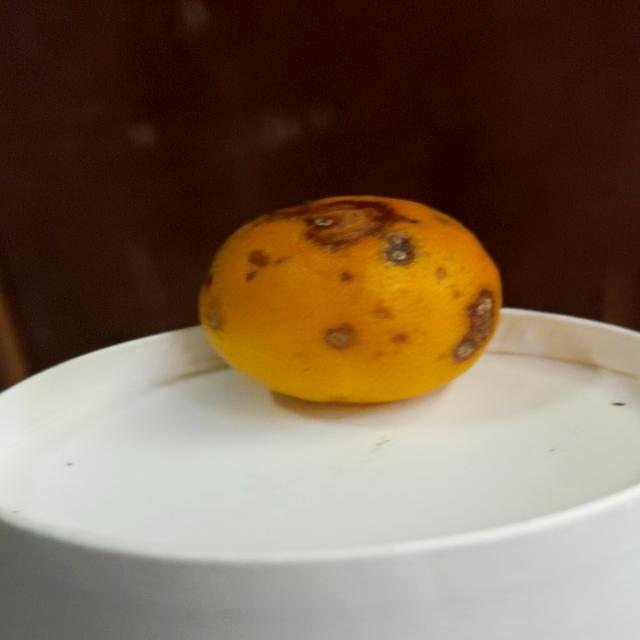black spot: (193, 187, 519, 408)
